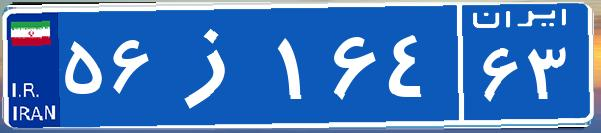1: (273, 28, 330, 110)
3: (525, 38, 570, 115)
4: (385, 28, 445, 110)
5: (57, 26, 110, 107)
6: (330, 28, 385, 110), (475, 38, 525, 113), (110, 28, 158, 105)
ز: (158, 15, 273, 115)
